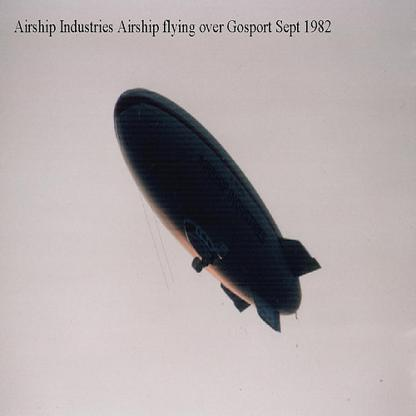Airship: (108, 87, 322, 338)
